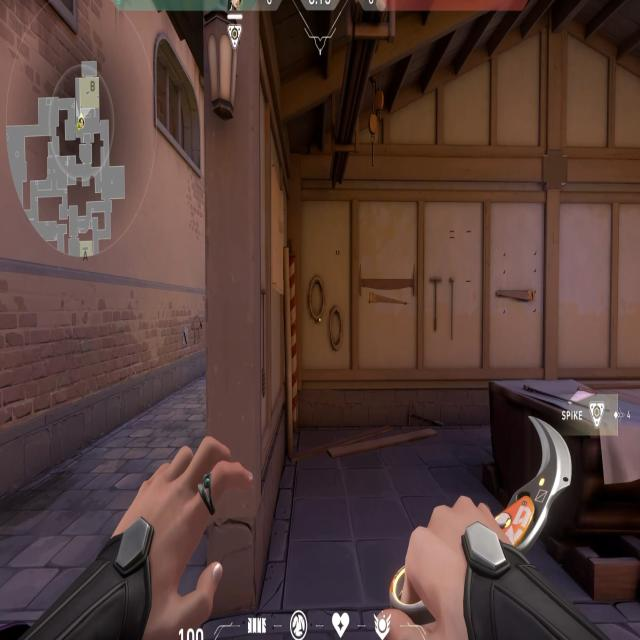B_Garage_Left: (203, 1, 548, 536)
Throwables: (143, 13, 207, 190)
